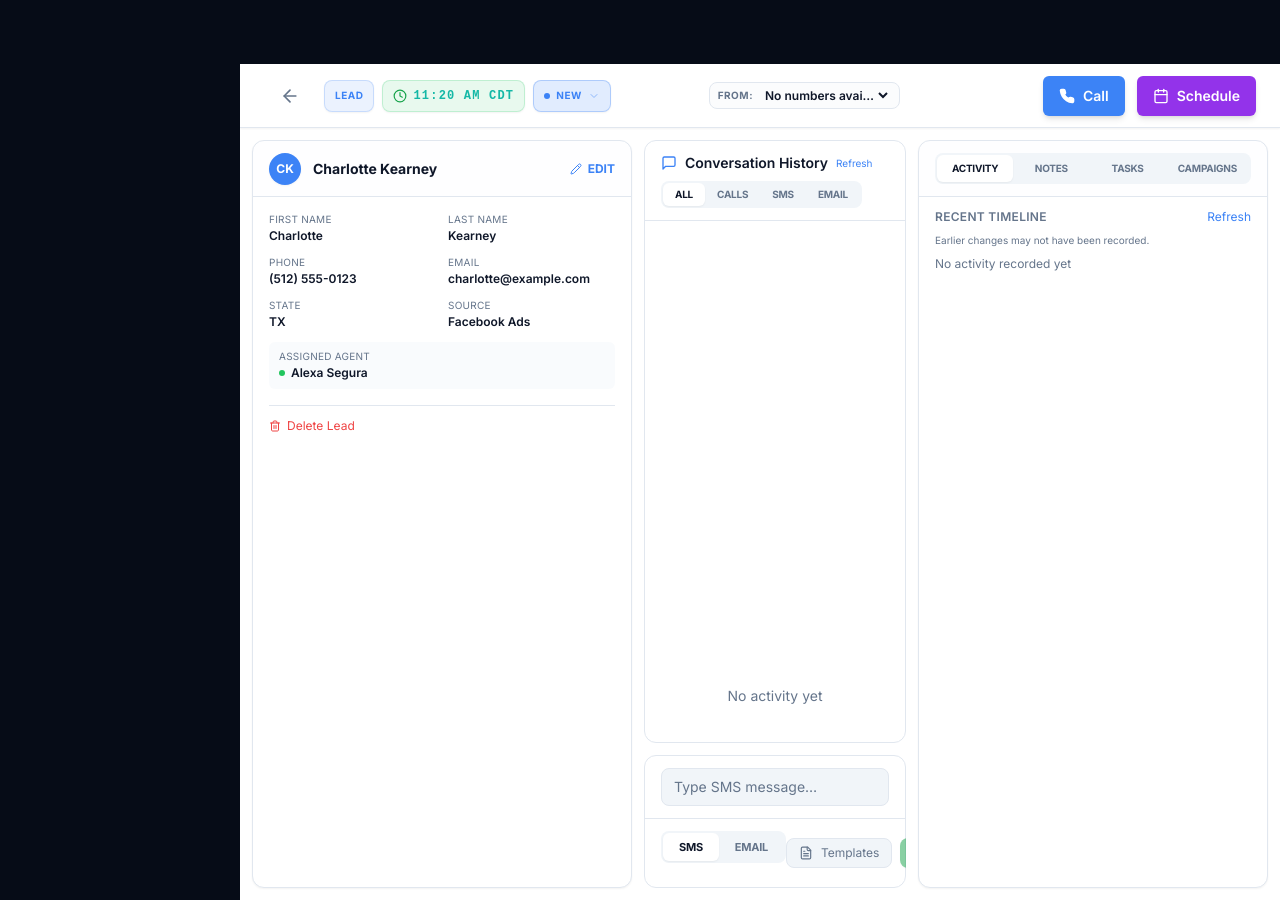
Test: A. filters use canonical identifiers › shows a per-channel empty state for each filtered channel
Check: the text "No activity yet" is shown, box [728,686,822,704]
Click the button "Calls" at (733, 194), box [705,183,760,206]
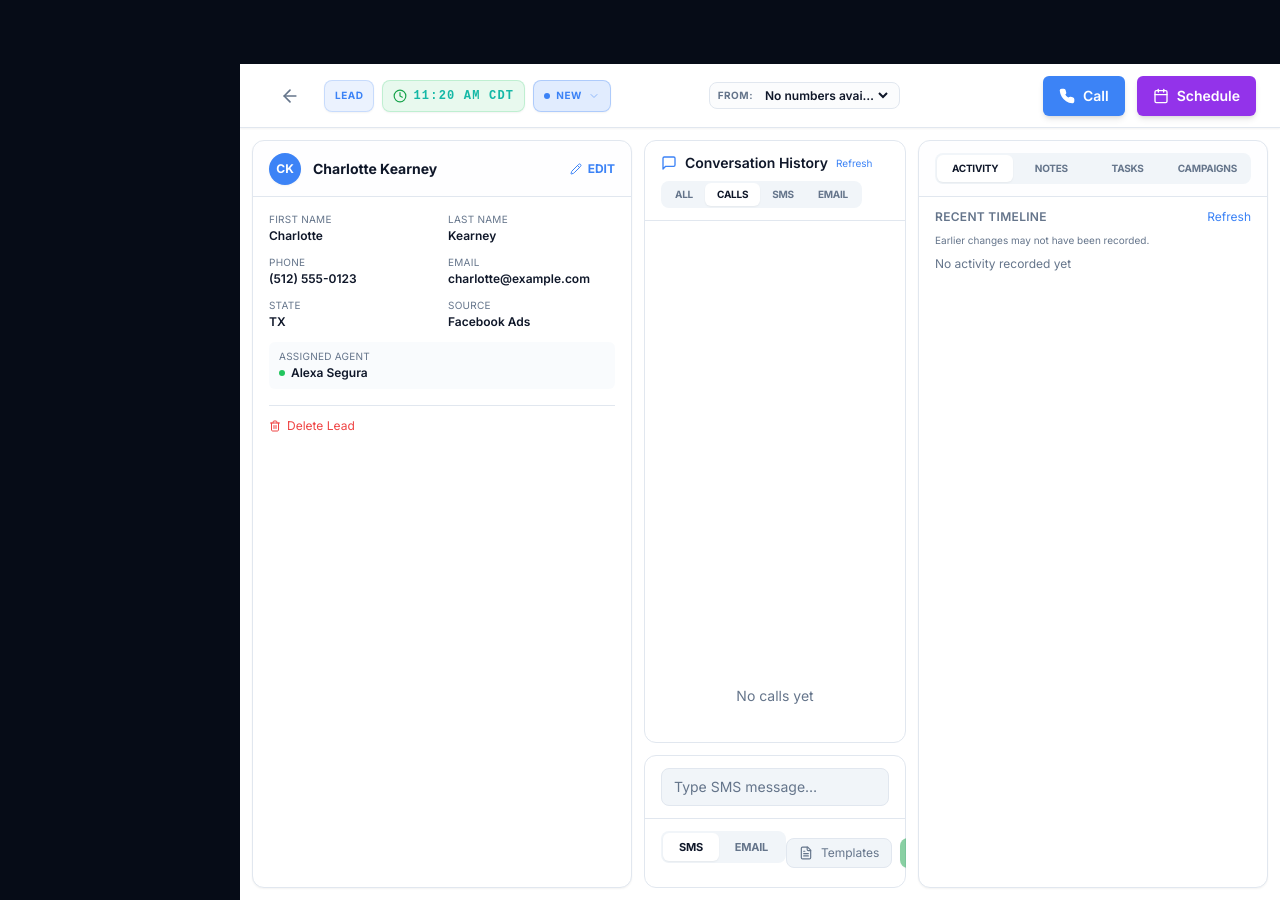
Check: the text "No calls yet" is shown, box [736,686,814,704]
Click the button "SMS" at (783, 194), box [760,183,806,206]
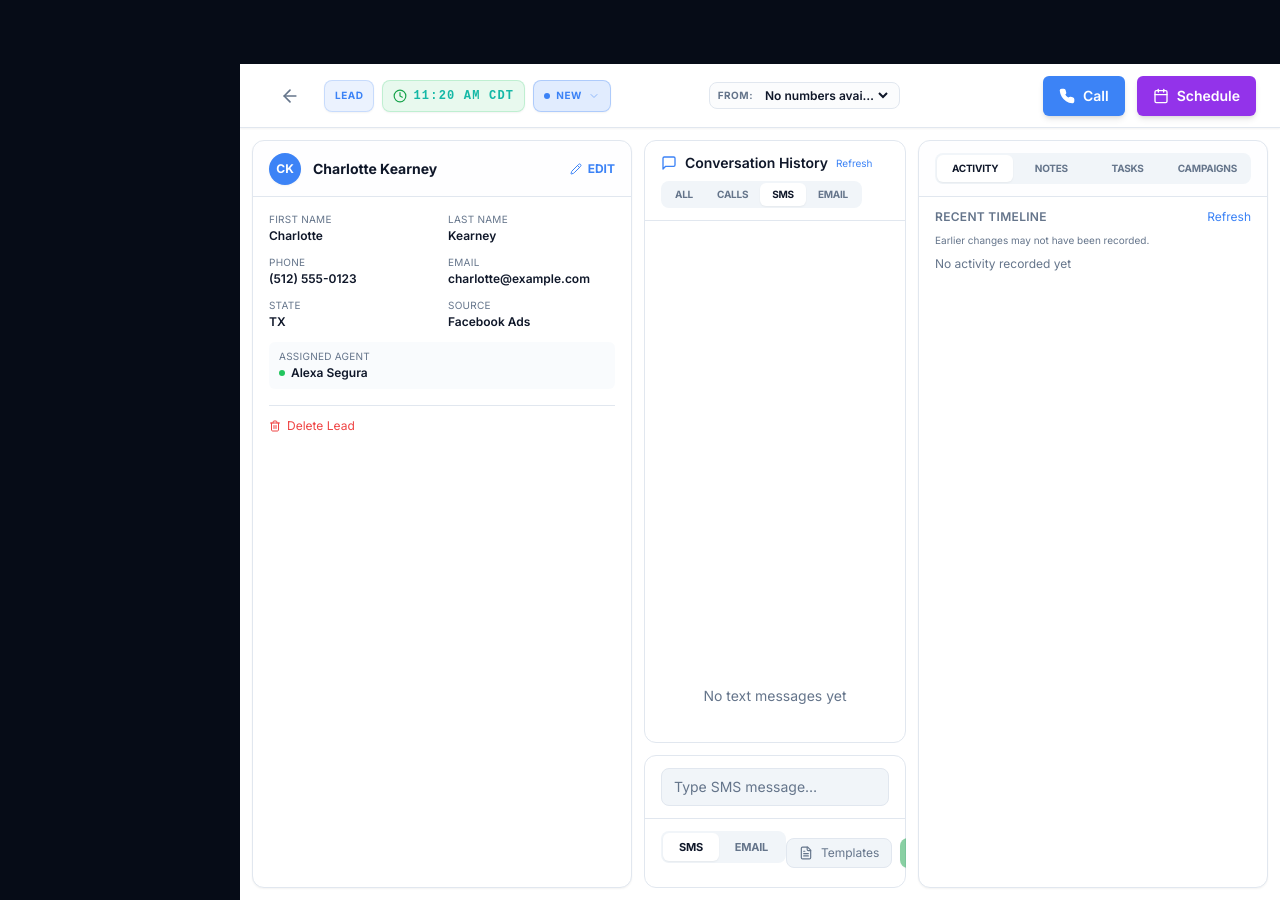
Check: the text "No text messages yet" is shown, box [704,686,847,704]
Click the button "Email" at (833, 194), box [806,183,860,206]
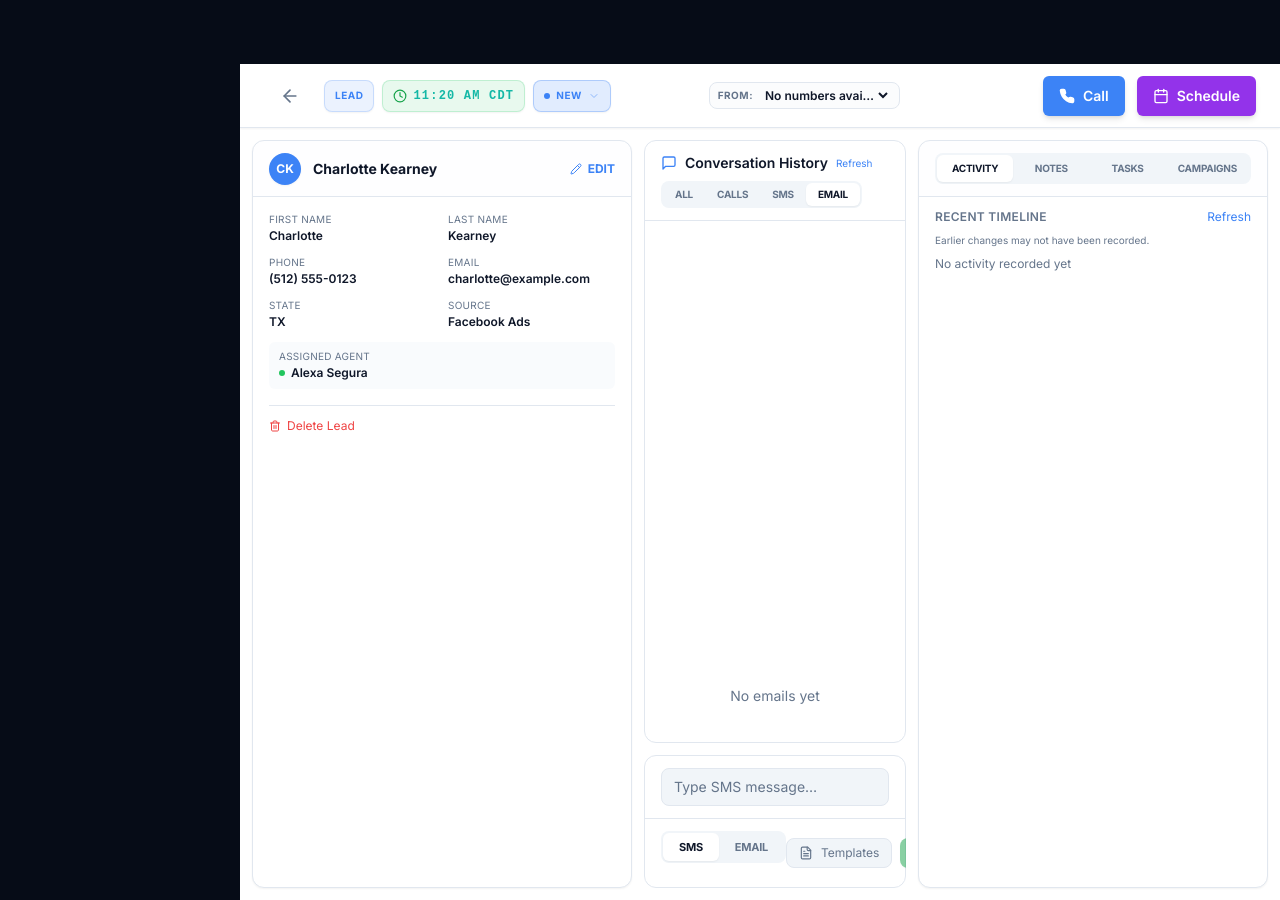
Check: the text "No emails yet" is shown, box [730,686,820,704]
Click the button "All" at (684, 194), box [663,183,705,206]
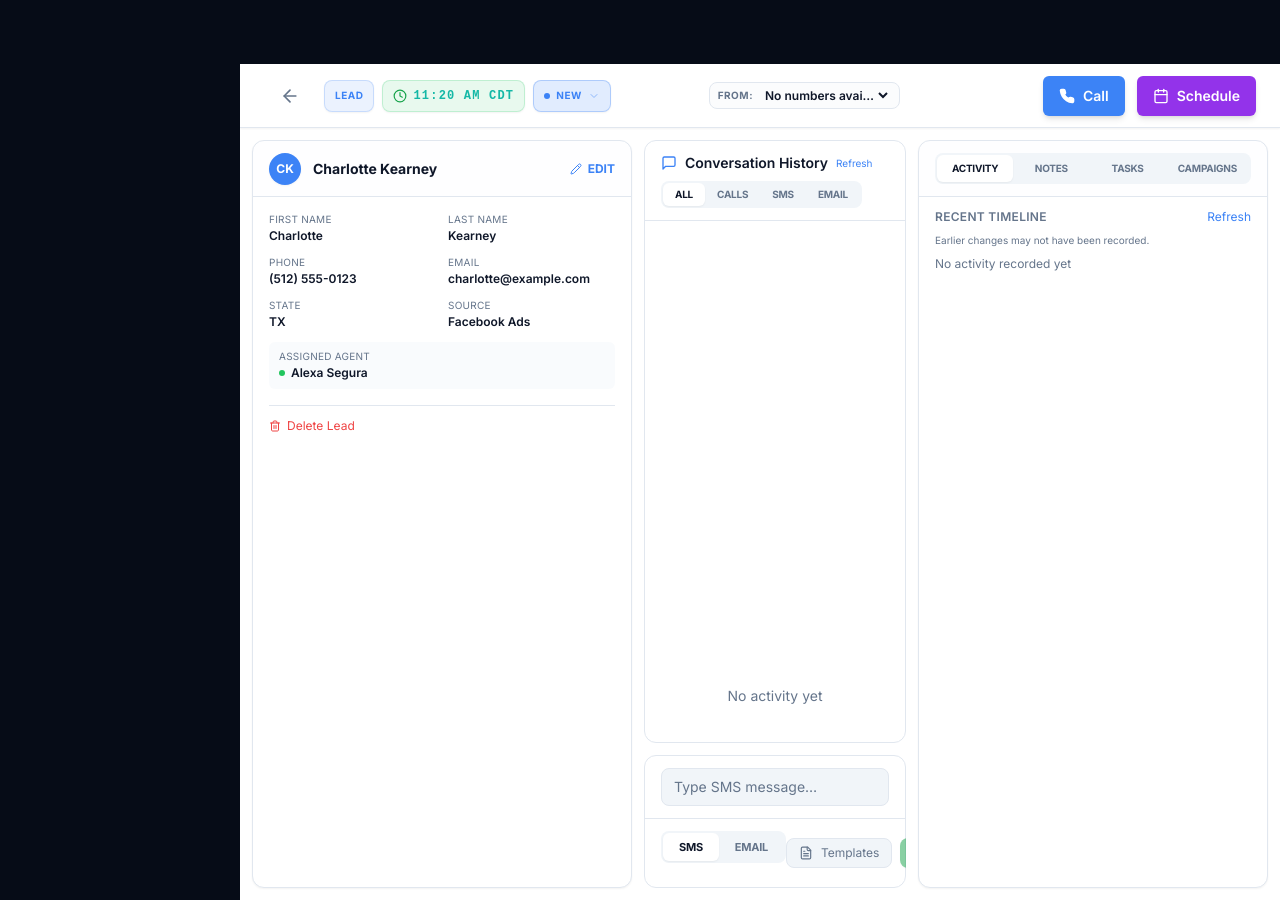
Check: the text "No activity yet" is shown, box [728,686,822,704]
